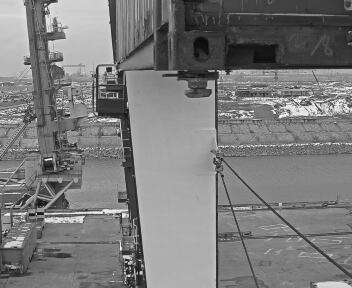twist_lock_1: (172, 65, 227, 107)
